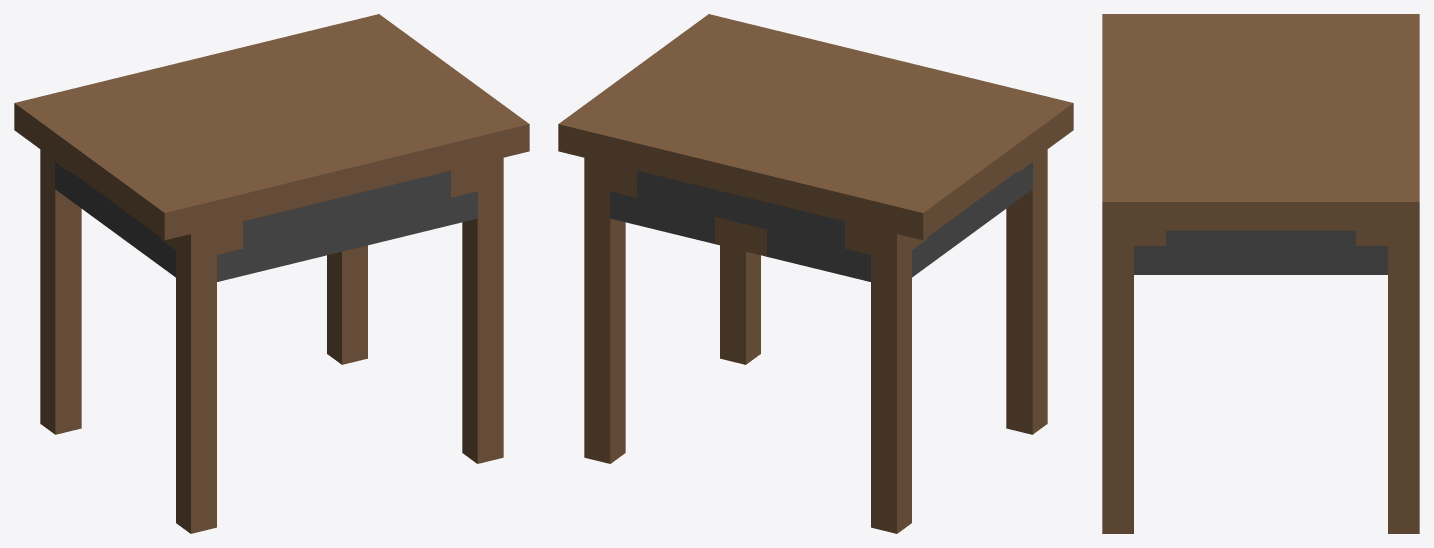
Rendered from Library table_70.obj.
3 renders of one model, left to right at view 1: azimuth 30°, elevation 25°; view 2: azimuth 150°, elevation 25°; view 3: azimuth 270°, elevation 25°, orthographic. The views are drawn at different scales.
Visible parts, largest first — view 1: Library_table_70; view 2: Library_table_70; view 3: Library_table_70.
Part boxes in pixels (<box>): Library_table_70: <box>14,14,529,533</box>; Library_table_70: <box>558,14,1073,533</box>; Library_table_70: <box>1102,14,1419,533</box>.
Size of the model in its own units: 1.4 by 1.2 by 1.
1 material, 1 textured.
